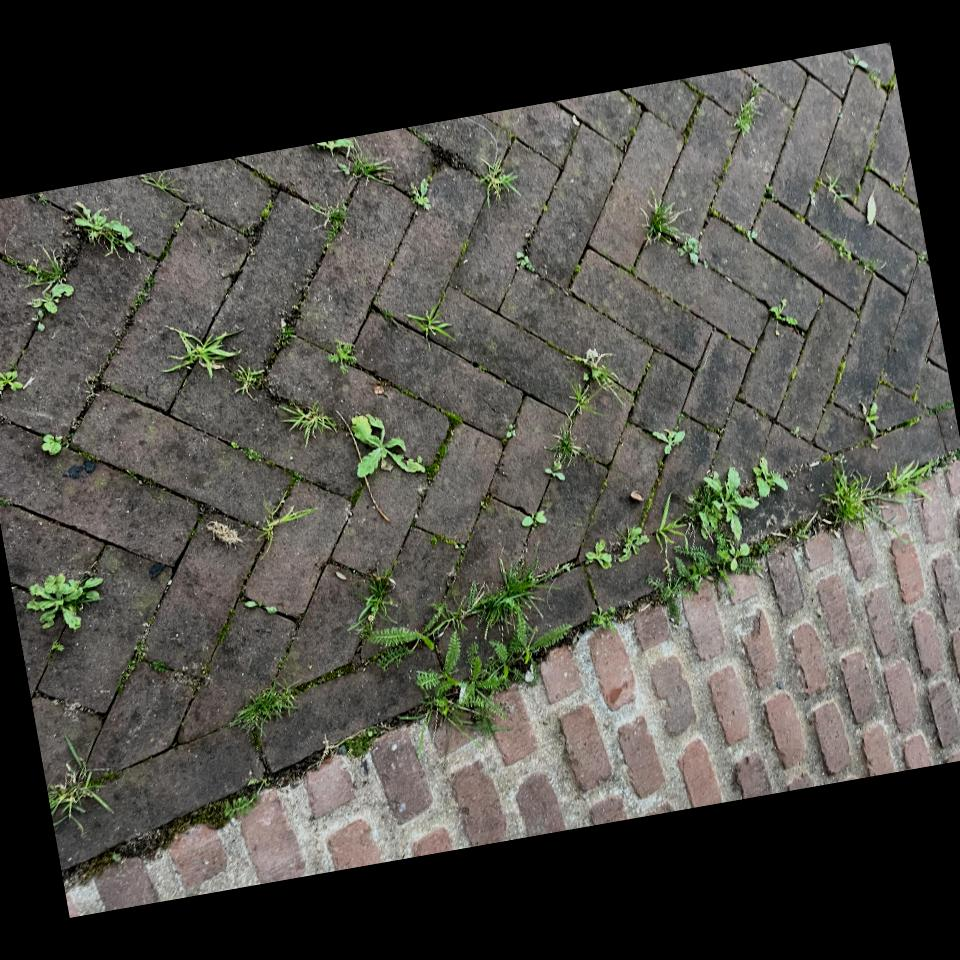weed: (648, 535, 758, 621), (416, 634, 505, 735), (47, 736, 114, 833), (470, 557, 551, 637), (490, 610, 572, 677), (690, 467, 758, 541), (352, 414, 425, 477), (27, 573, 102, 630), (164, 327, 242, 378), (822, 468, 880, 531), (27, 251, 73, 330), (230, 681, 297, 734), (75, 202, 134, 255), (340, 137, 392, 184), (282, 402, 336, 447), (583, 348, 624, 403), (480, 157, 520, 206), (406, 305, 454, 345), (884, 462, 931, 499), (646, 198, 684, 243), (367, 626, 434, 649), (550, 420, 582, 466), (224, 782, 264, 817), (314, 203, 347, 244), (338, 727, 381, 757), (735, 83, 759, 133), (233, 365, 264, 398), (328, 340, 357, 373), (821, 232, 852, 260), (770, 298, 798, 326), (861, 403, 879, 437), (411, 180, 431, 210), (679, 237, 700, 265), (276, 320, 295, 348), (792, 522, 816, 543)
